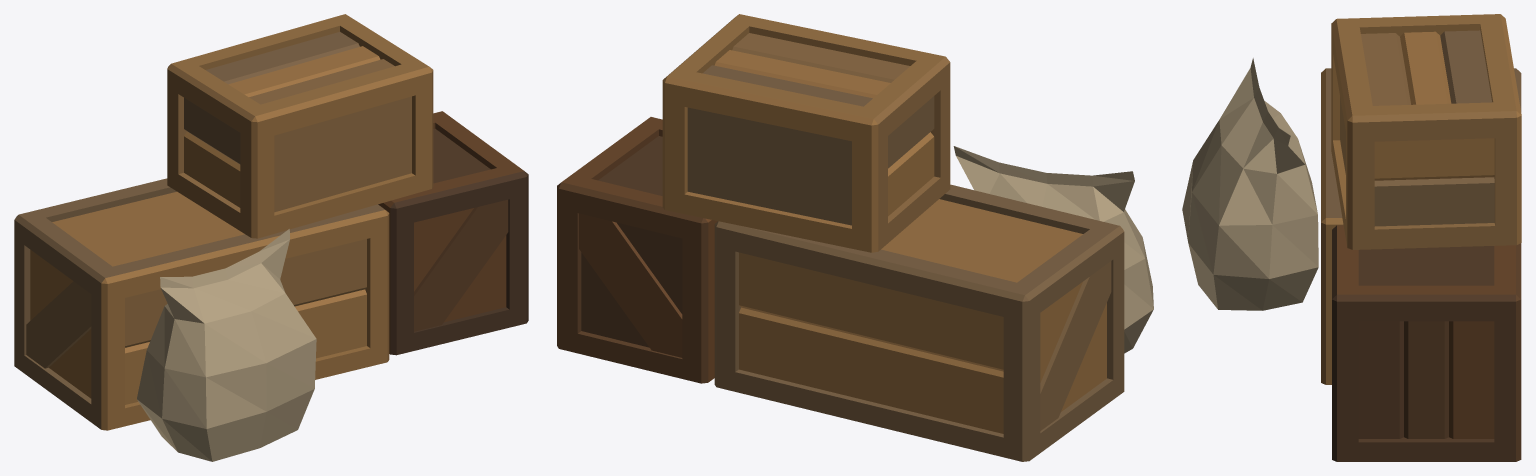
Rendered from freight-crate-and-sack-f49cbb.glb.
The picture shows the model from 3 angles, left to right: view 1: azimuth 30°, elevation 25°; view 2: azimuth 150°, elevation 25°; view 3: azimuth 270°, elevation 25°; orthographic projection. The views are drawn at different scales.
Visible parts, largest first — view 1: freight-stack, sack-mesh; view 2: freight-stack, sack-mesh; view 3: freight-stack, sack-mesh.
Part boxes in pixels (bbox=[...]): freight-stack: bbox=[14, 14, 528, 430]; sack-mesh: bbox=[137, 229, 316, 461]; freight-stack: bbox=[557, 14, 1124, 461]; sack-mesh: bbox=[953, 146, 1153, 353]; freight-stack: bbox=[1321, 14, 1521, 461]; sack-mesh: bbox=[1182, 58, 1318, 310].
Size of the model in its own units: 1.5 by 0.9 by 0.9323.
